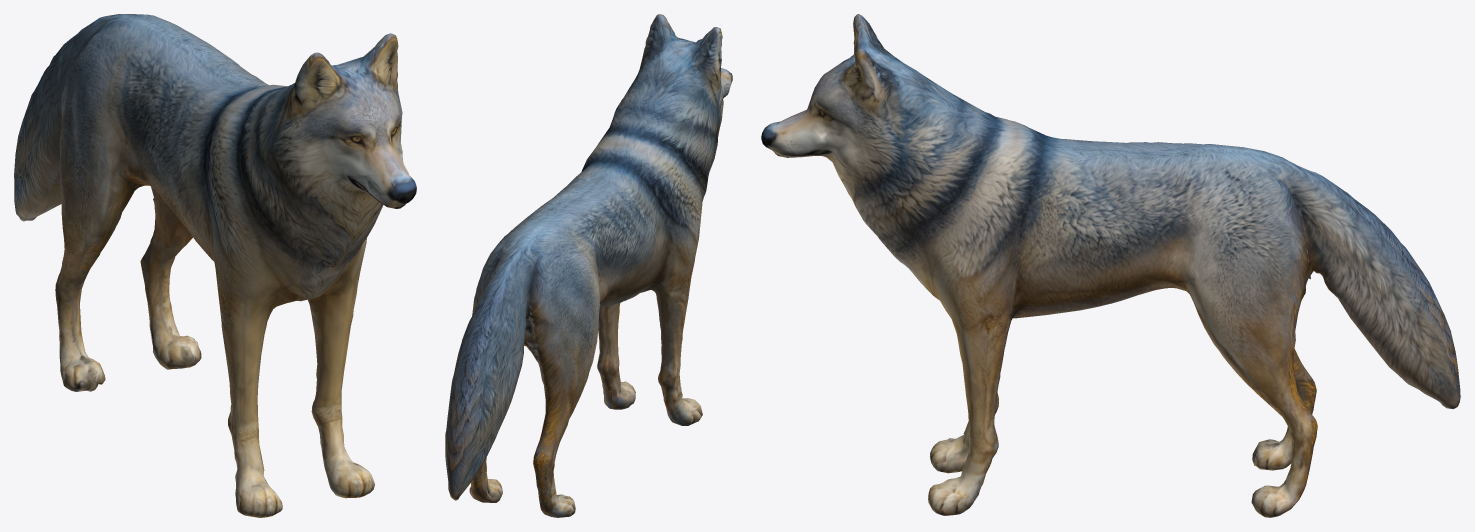
Rendered from wolf king.fbx.
3 views of the same model, side by side, from view 1: azimuth 30°, elevation 25°; view 2: azimuth 150°, elevation 25°; view 3: azimuth 270°, elevation 25° (orthographic). The views are drawn at different scales.
Visible parts, largest first — view 1: Mesh_0; view 2: Mesh_0; view 3: Mesh_0.
Boxes of the visible parts, x1,y1,x2,y2 form: Mesh_0: (14,14,416,517); Mesh_0: (445,14,732,517); Mesh_0: (761,14,1460,517).
Bounding box in the file's own units: 1.99 × 6.74 × 9.29.
Materials: 1 (1 with a texture image).
